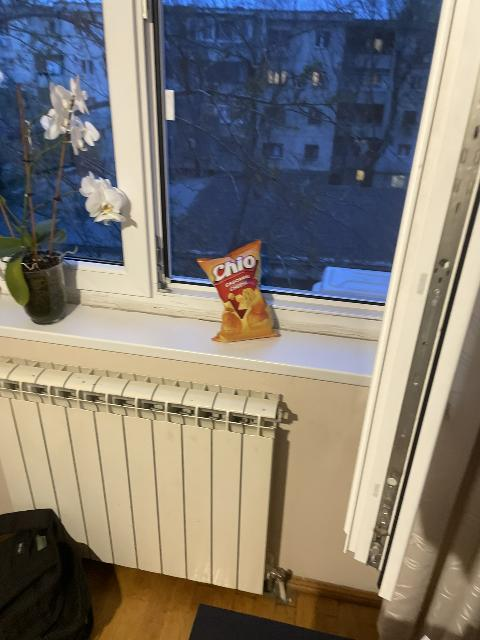Chio Cascaval 125g: (197, 240, 281, 341)
